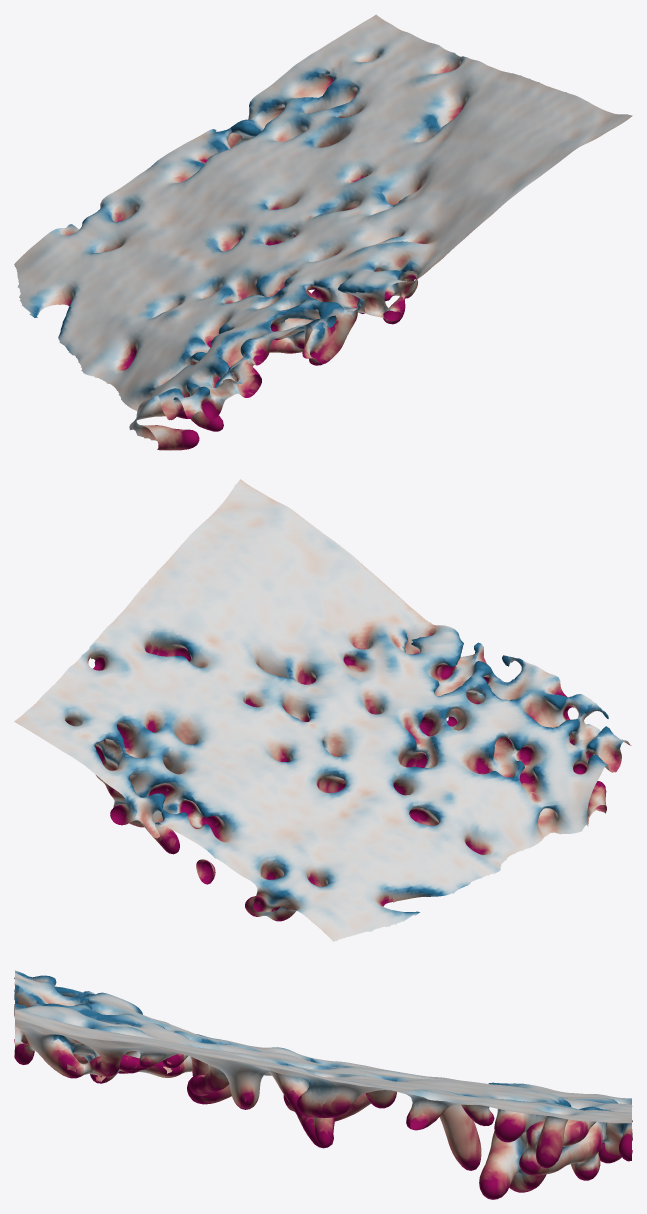
File: crop1074_deviation.glb
3 renders of one model, top to bottom at view 1: azimuth 30°, elevation 25°; view 2: azimuth 150°, elevation 25°; view 3: azimuth 270°, elevation 25°, orthographic. The views are drawn at different scales.
Parts seen in each view (by area): view 1: geometry_0; view 2: geometry_0; view 3: geometry_0.
Part boxes in pixels (x1,y1,x2,y2): geometry_0: (14,14,632,450); geometry_0: (14,479,631,941); geometry_0: (14,970,632,1199).
Size of the model in its own units: 2280 by 1216 by 2280.
